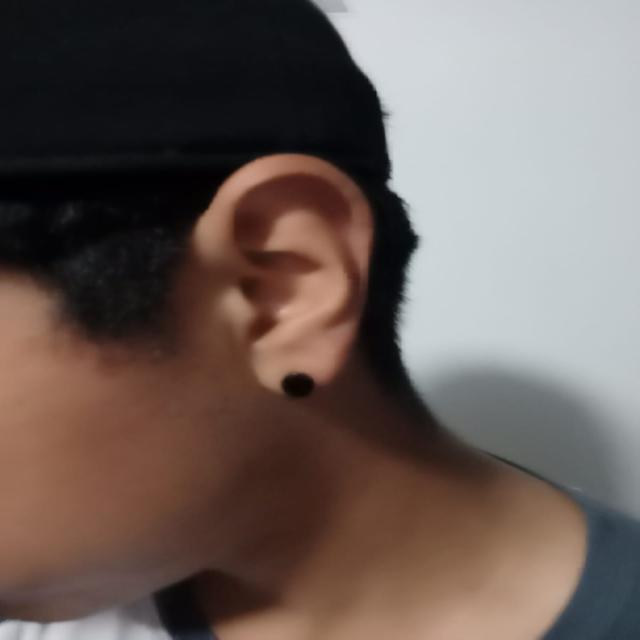ear: (193, 155, 372, 392)
